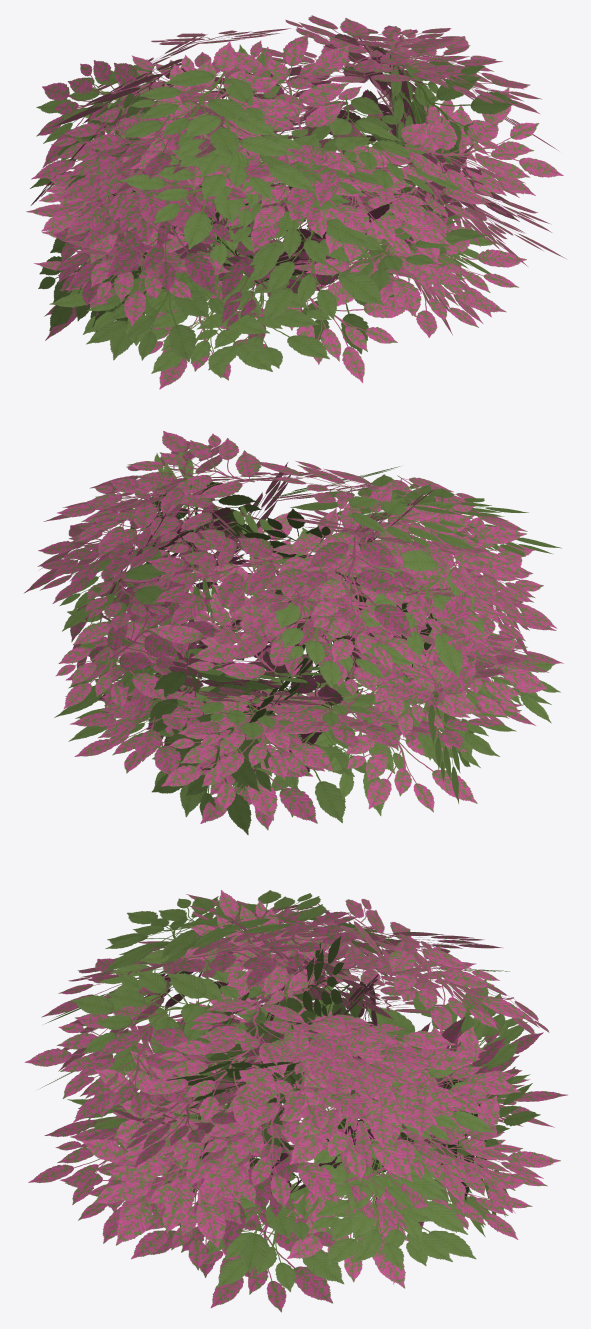
Rendered from bougainvillea_b.glb.
The picture shows the model from 3 angles, top to bottom: view 1: azimuth 30°, elevation 25°; view 2: azimuth 150°, elevation 25°; view 3: azimuth 270°, elevation 25°; orthographic projection. The views are drawn at different scales.
Visible parts, largest first — view 1: leaves_w; view 2: leaves_w; view 3: leaves_w.
Part boxes in pixels (<box>): leaves_w: <box>26,15,565,389</box>; leaves_w: <box>24,431,563,835</box>; leaves_w: <box>24,890,567,1312</box>.
Bounding box in the file's own units: 2.64 × 1.5 × 2.46.
2 materials, 2 textured.
